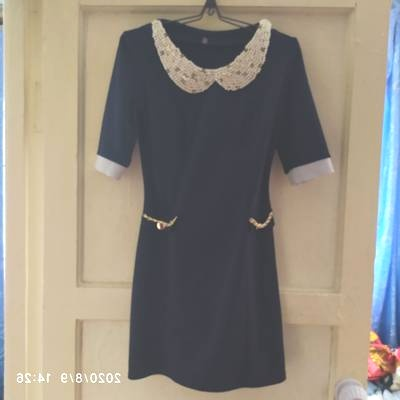Dress: (75, 16, 342, 394)
